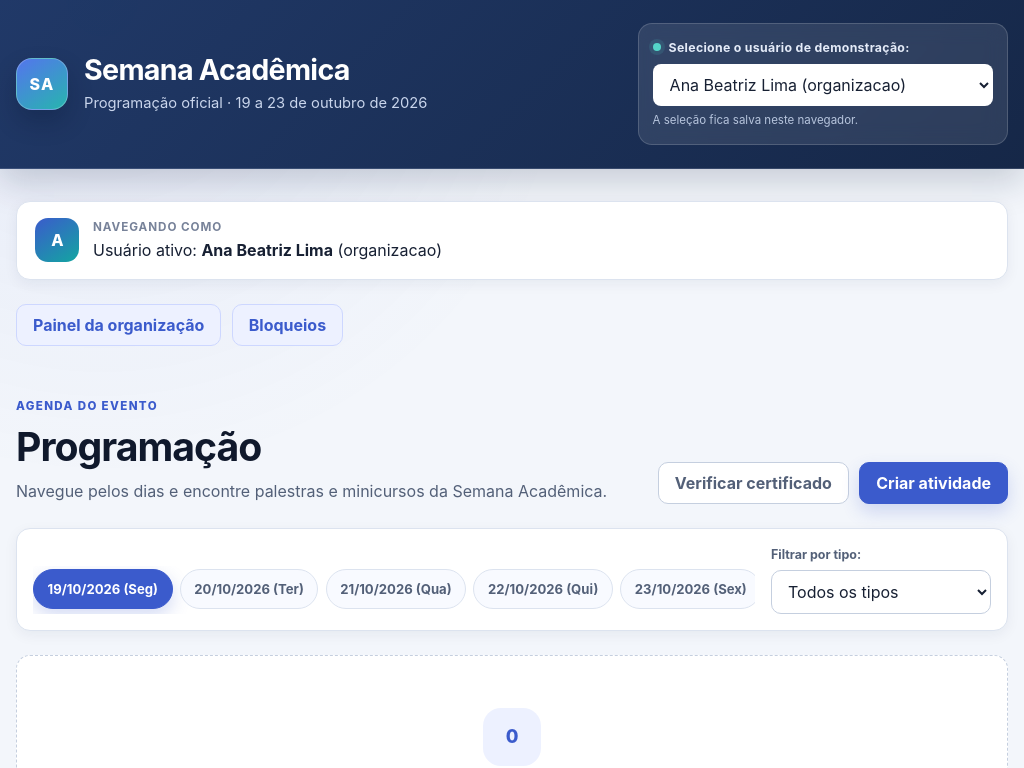
Test: M5 - Painel (Fatia 6) › navegação exclusiva da organização
Click the link "Painel da organização": (119, 325) [16,304,221,346]
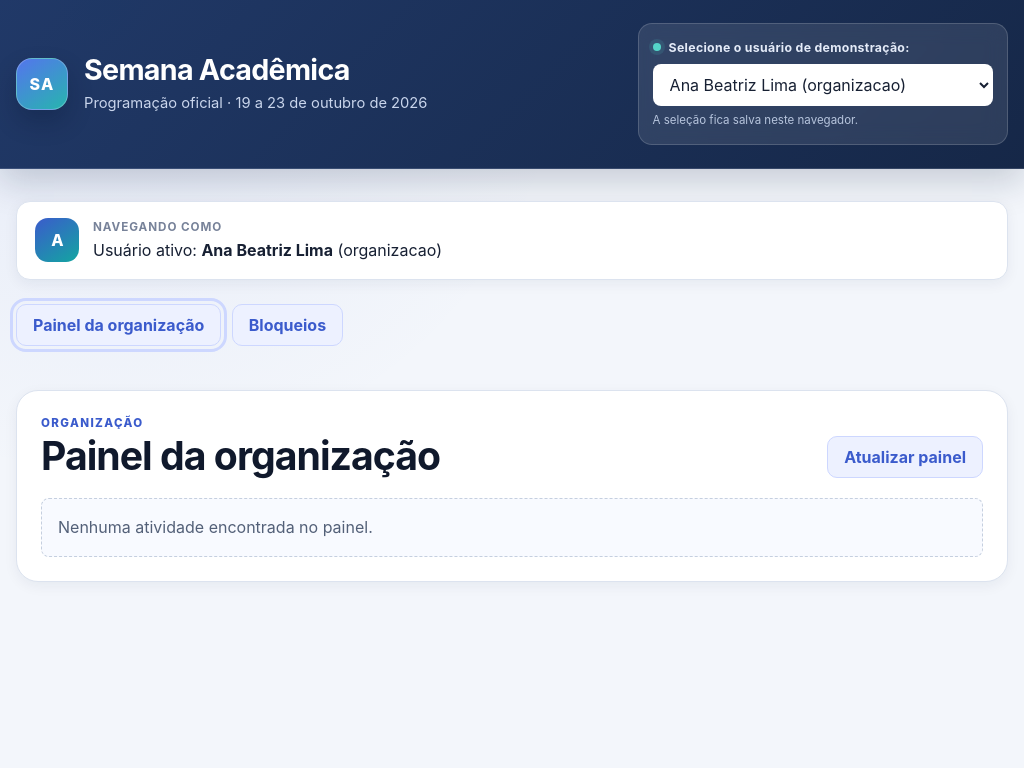
Check: the heading "Painel da organização" is shown, box [41,433,440,478]
